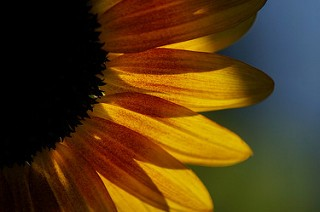flower: (0, 0, 277, 212)
